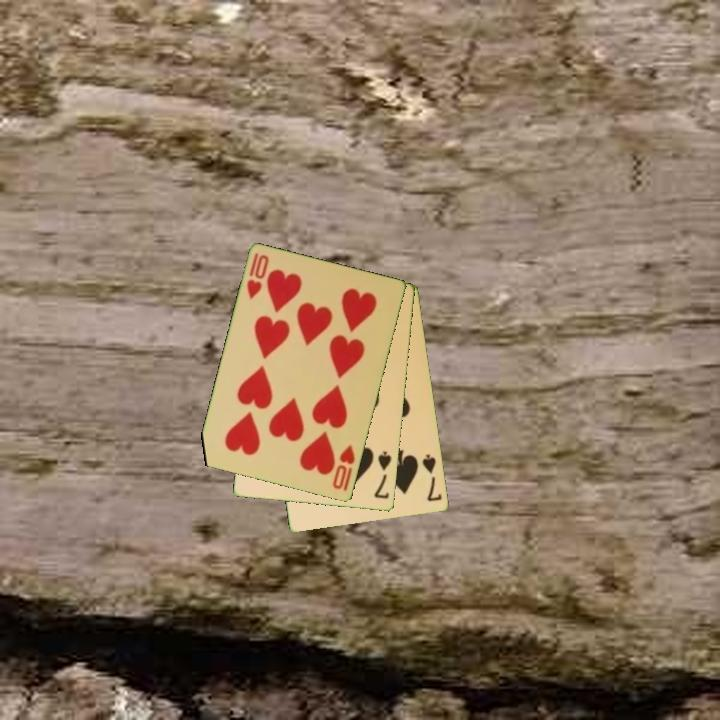10h: (329, 441, 358, 494), (243, 249, 272, 302)
7s: (419, 451, 445, 504), (371, 448, 394, 502)
